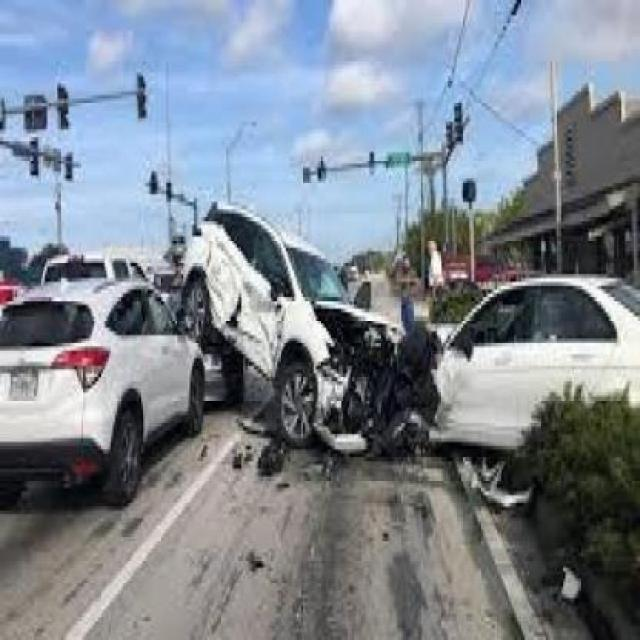accident: (11, 212, 640, 466)
